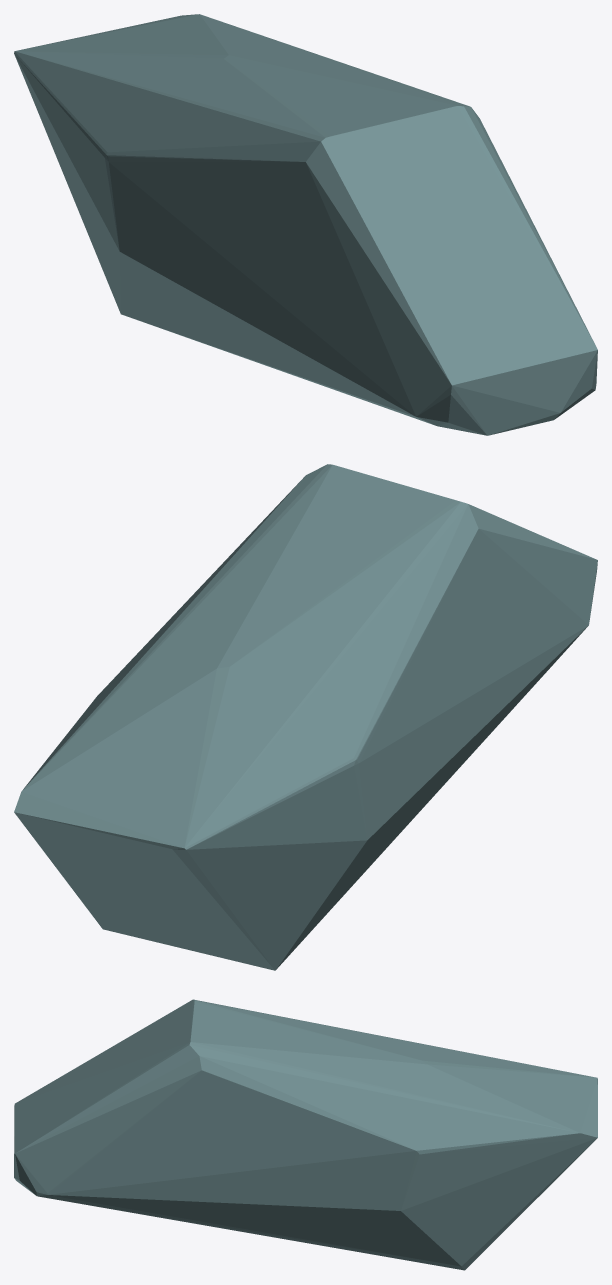
File: handTruck_convertible_steel_red_a01.glb
The picture shows the model from 3 angles, top to bottom: view 1: azimuth 30°, elevation 25°; view 2: azimuth 150°, elevation 25°; view 3: azimuth 270°, elevation 25°; orthographic projection. The views are drawn at different scales.
Visible parts, largest first — view 1: geometry_0; view 2: geometry_0; view 3: geometry_0.
Part boxes in pixels (<box>): geometry_0: <box>14,14,597,435</box>; geometry_0: <box>14,464,597,970</box>; geometry_0: <box>14,999,597,1270</box>.
Size of the model in its own units: 0.1676 by 0.1996 by 0.4798.
